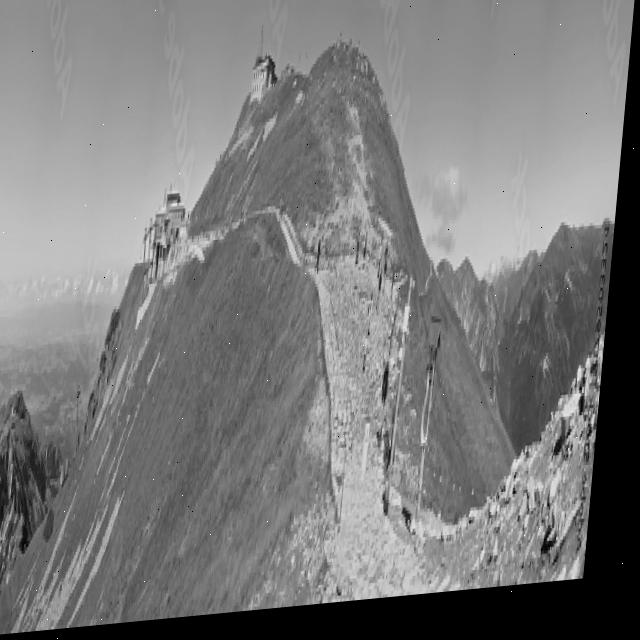Krivan: (213, 0, 353, 171)
Uhrocie Kasprowe: (0, 278, 55, 562)
